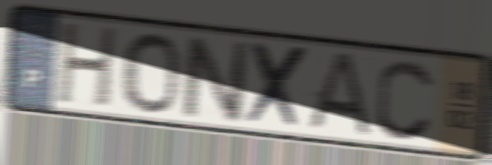A: (301, 50, 376, 139)
C: (373, 56, 438, 144)
H: (53, 21, 121, 112)
N: (180, 32, 251, 126)
O: (120, 29, 183, 116)
X: (243, 39, 313, 134)
